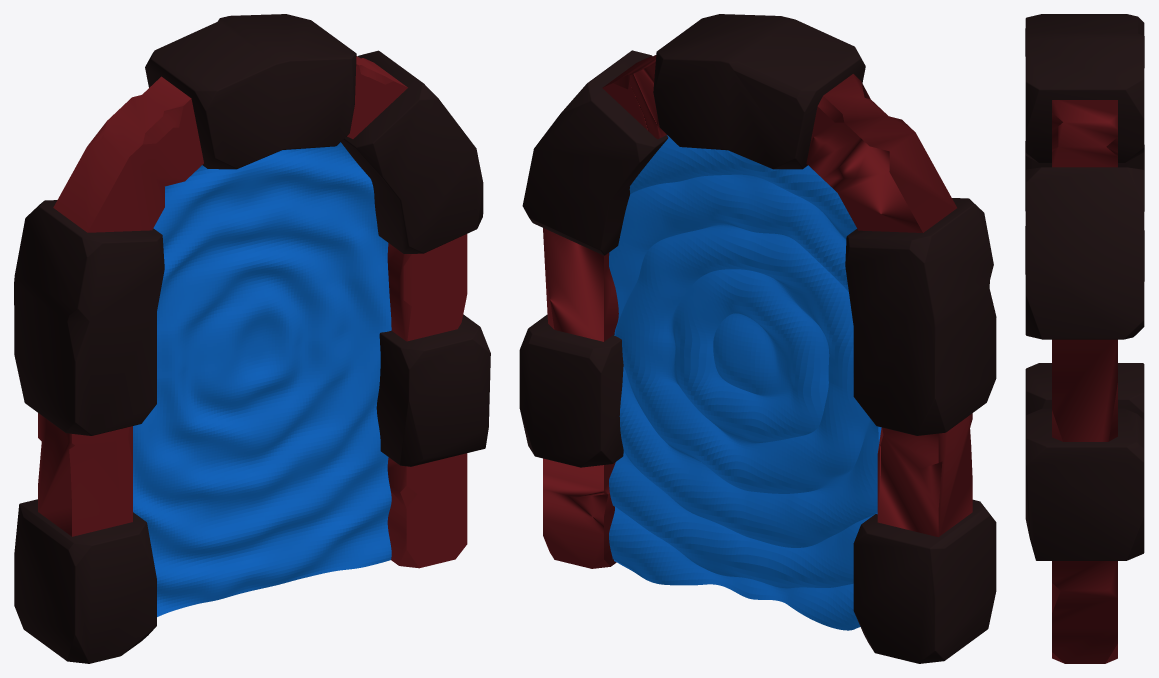
The model's file is Portal.fbx.
3 views of the same model, side by side, from view 1: azimuth 30°, elevation 25°; view 2: azimuth 150°, elevation 25°; view 3: azimuth 270°, elevation 25° (orthographic). The views are drawn at different scales.
Visible parts, largest first — view 1: Plane.002; view 2: Plane.002; view 3: Plane.002.
Boxes of the visible parts, bbox=[...] form: Plane.002: bbox=[14, 14, 490, 663]; Plane.002: bbox=[519, 14, 996, 663]; Plane.002: bbox=[1025, 14, 1144, 663].
Size of the model in its own units: 305 by 392 by 78.12.
